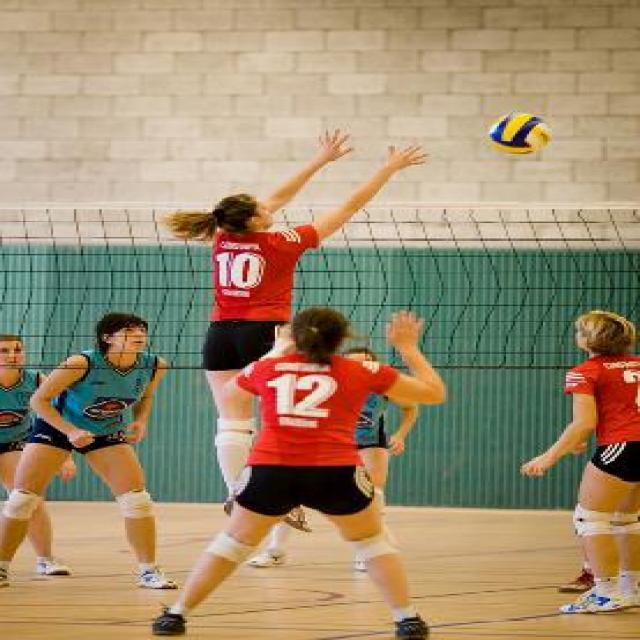volleyball: (488, 110, 552, 154)
